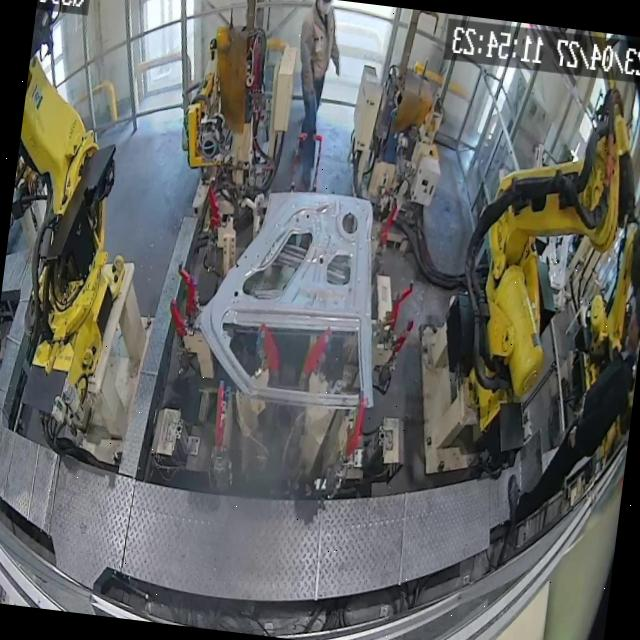Person: (500, 295, 640, 545), (281, 0, 348, 195)
